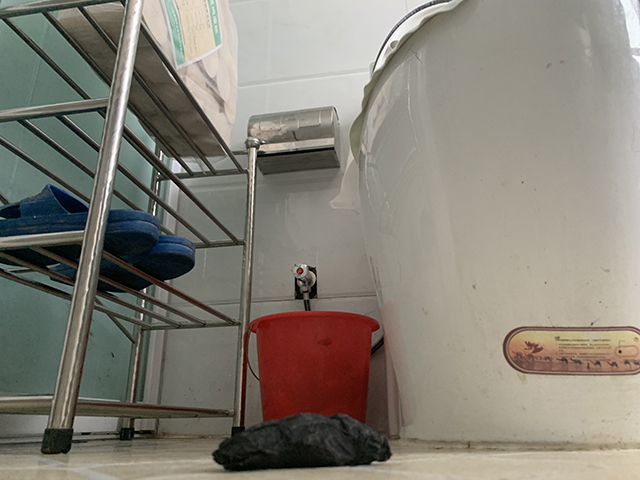closestool: (349, 1, 640, 447)
feces: (210, 411, 394, 473)
